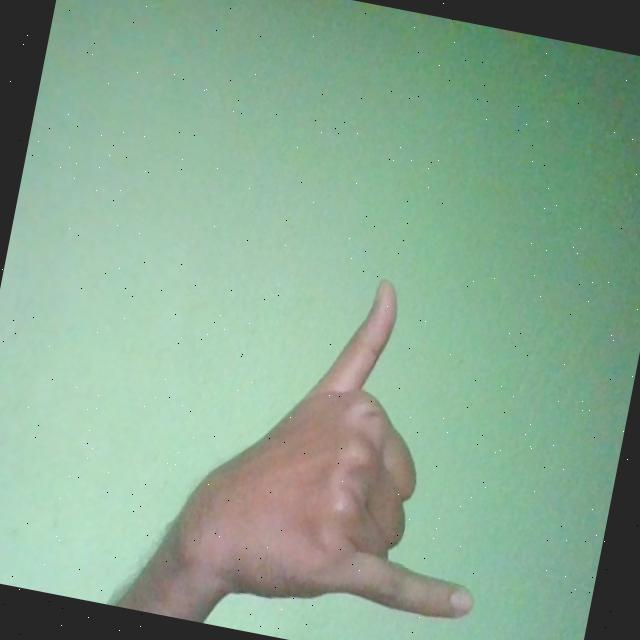Call Me: (153, 245, 532, 640)
